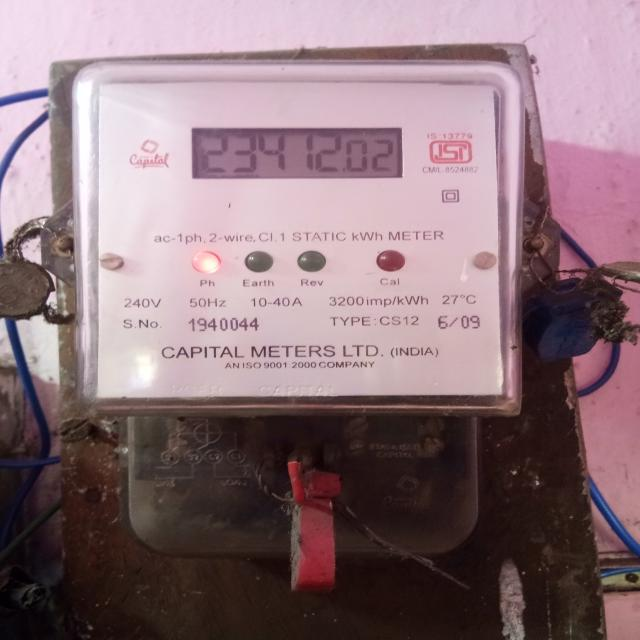display: (188, 118, 405, 183)
